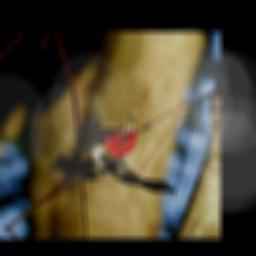Woodpecker: (52, 99, 184, 202)
